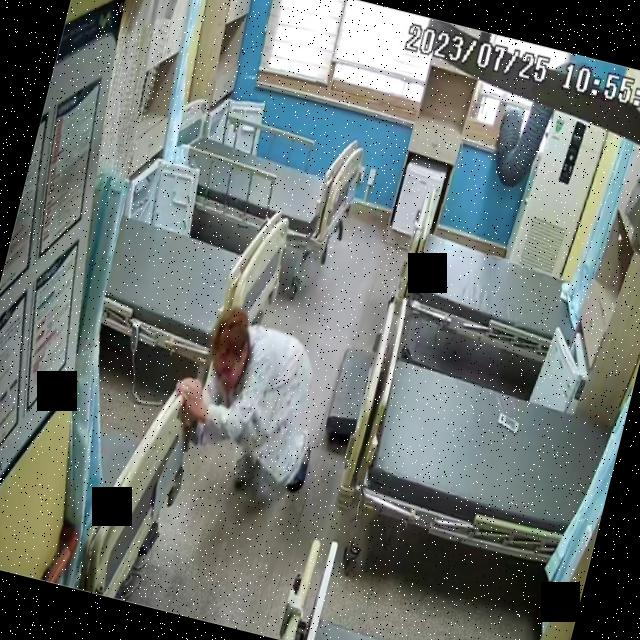bed: (351, 346, 620, 570), (89, 174, 299, 386), (157, 95, 366, 256), (390, 204, 595, 365)
danger: (156, 299, 341, 505)
patient: (156, 300, 342, 506)
